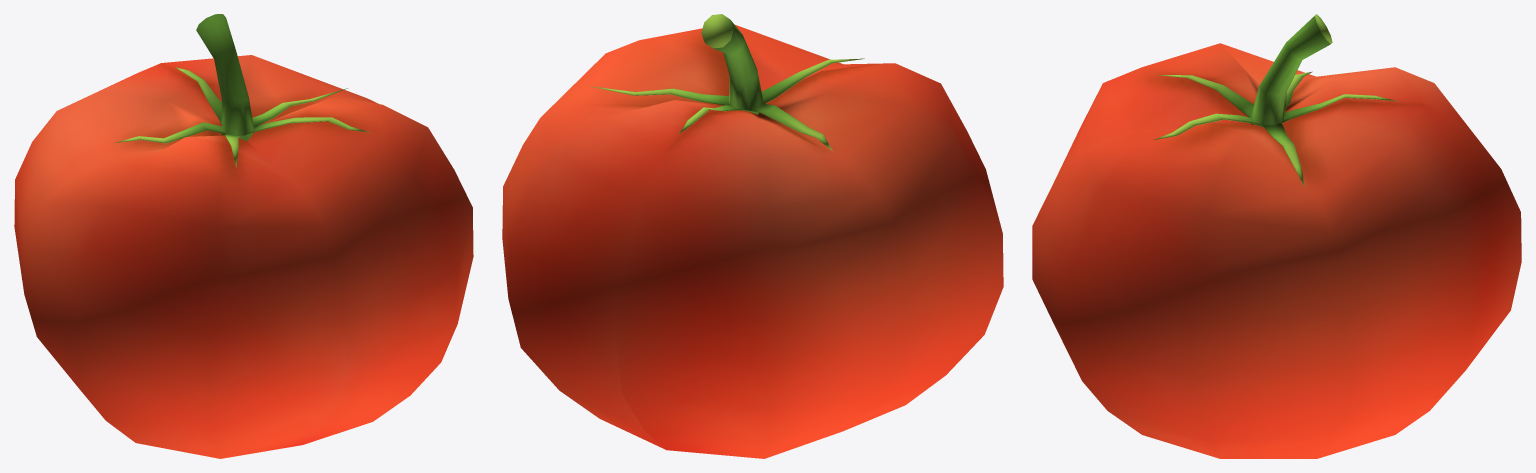
File: Tomato.FBX
3 renders of one model, left to right at view 1: azimuth 30°, elevation 25°; view 2: azimuth 150°, elevation 25°; view 3: azimuth 270°, elevation 25°, orthographic. The views are drawn at different scales.
Parts seen in each view (by area): view 1: obj1; view 2: obj1; view 3: obj1.
Part boxes in pixels (box(x1,y1,x2,y2)): obj1: box(14, 14, 473, 458); obj1: box(502, 14, 1003, 458); obj1: box(1032, 14, 1521, 458).
Size of the model in its own units: 175 by 161 by 177.
